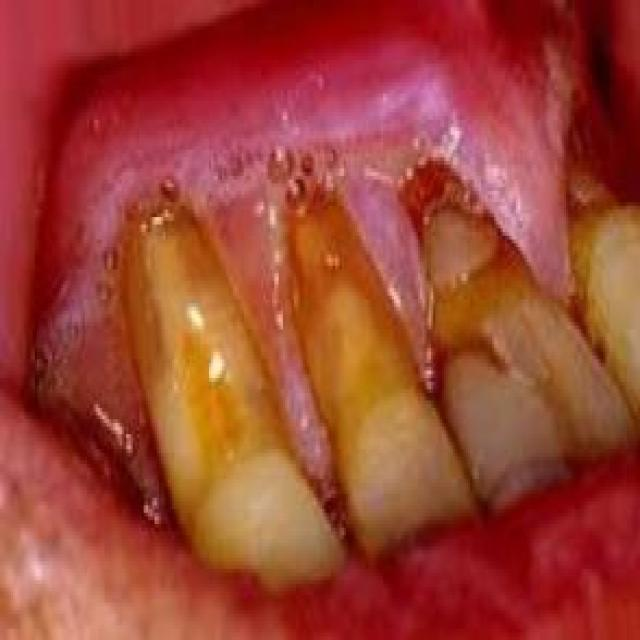caries: (397, 148, 537, 336)
